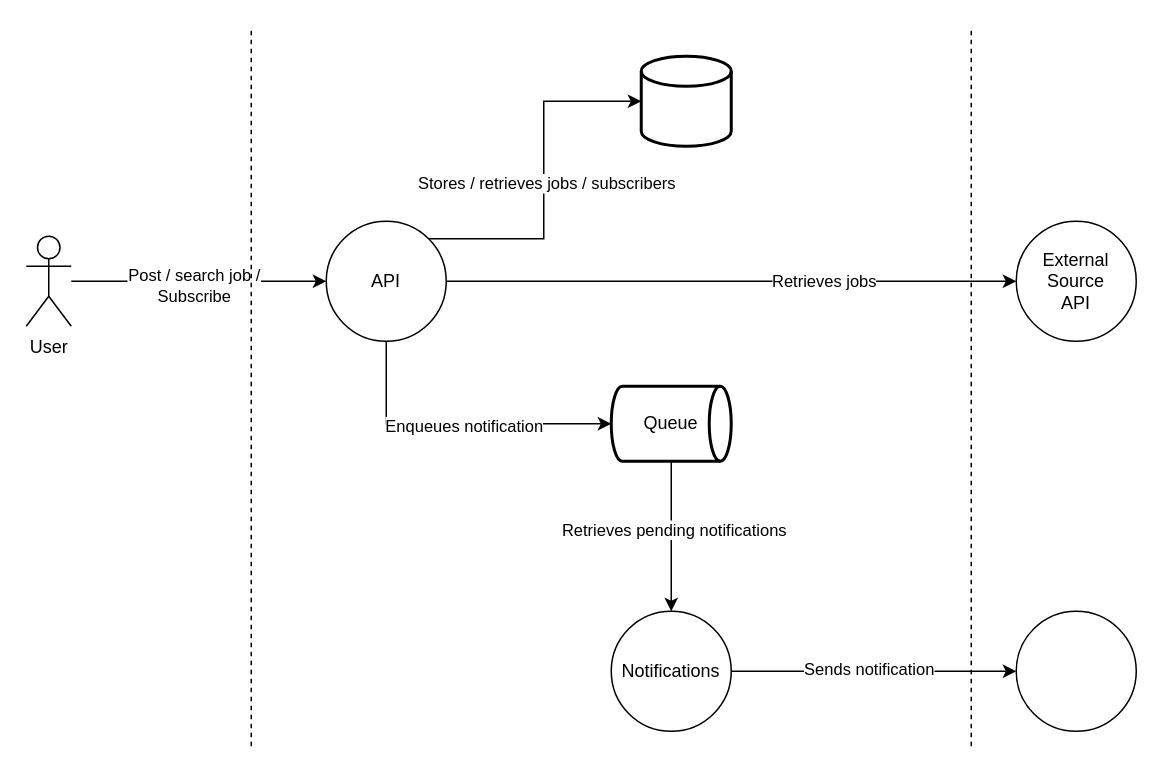
Some shapes in this 1163 by 774 pixel diagram are drawn without their labels. Here are the shapes that lost their labels. From the top down, the centre of each, then its label:
At (x=685, y=100): "Storage".
At (x=1075, y=670): "Email Provider".
